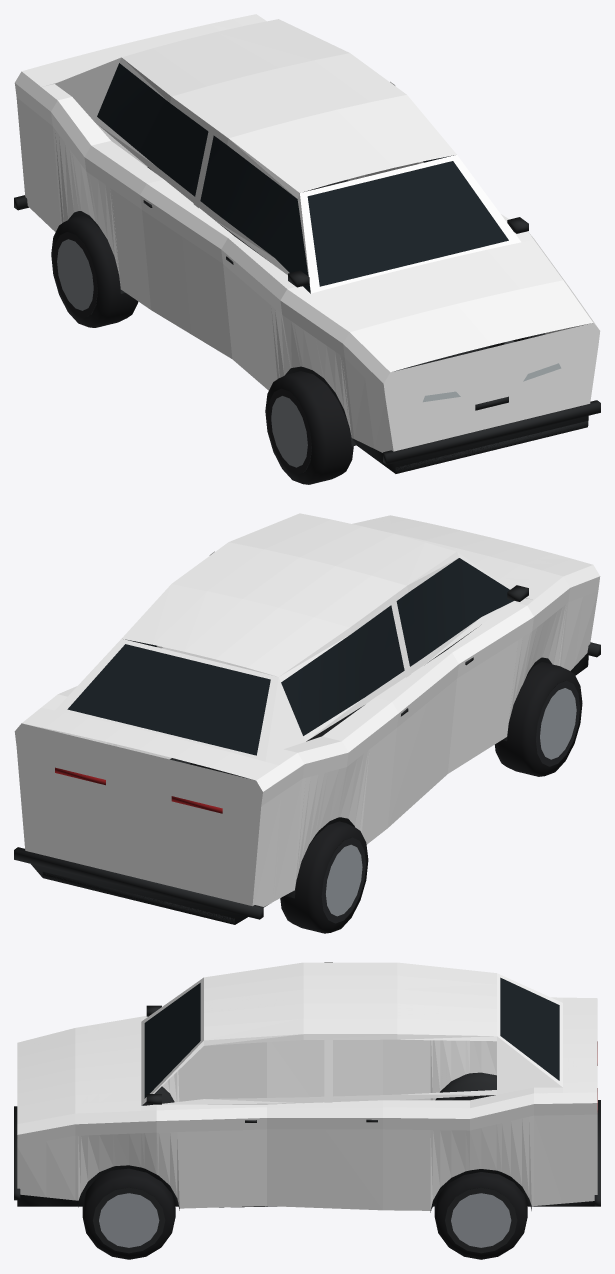
Rendered from kanaya_chapada.glb.
The picture shows the model from 3 angles, top to bottom: view 1: azimuth 30°, elevation 25°; view 2: azimuth 150°, elevation 25°; view 3: azimuth 270°, elevation 25°; orthographic projection. The views are drawn at different scales.
Visible parts, largest first — view 1: Body_Paint, Body_Details, Mount_FrontLeft_Wheel_Details, Mount_RearLeft_Wheel_Details; view 2: Body_Paint, Body_Details, Mount_FrontLeft_Wheel_Details, Mount_RearLeft_Wheel_Details; view 3: Body_Paint, Body_Details, Mount_FrontRight_Wheel_Details, Mount_RearRight_Wheel_Details.
Part boxes in pixels (box(x1,y1,x2,y2)): Body_Paint: box(14, 14, 600, 452); Body_Details: box(14, 63, 600, 473); Mount_FrontLeft_Wheel_Details: box(265, 371, 353, 484); Mount_RearLeft_Wheel_Details: box(51, 215, 138, 327); Body_Paint: box(14, 513, 600, 906); Body_Details: box(14, 558, 600, 924); Mount_FrontLeft_Wheel_Details: box(495, 662, 582, 776); Mount_RearLeft_Wheel_Details: box(280, 821, 368, 933); Body_Paint: box(17, 962, 597, 1210); Body_Details: box(14, 977, 600, 1212); Mount_FrontRight_Wheel_Details: box(82, 1168, 175, 1259); Mount_RearRight_Wheel_Details: box(434, 1172, 527, 1259).
Bounding box in the file's own units: 2.17 × 1.99 × 4.99.
Materials: 2 (1 with a texture image).
